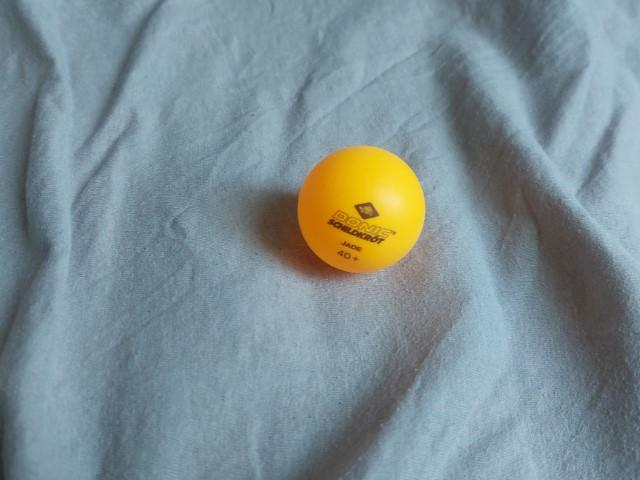oball: (290, 142, 431, 279)
